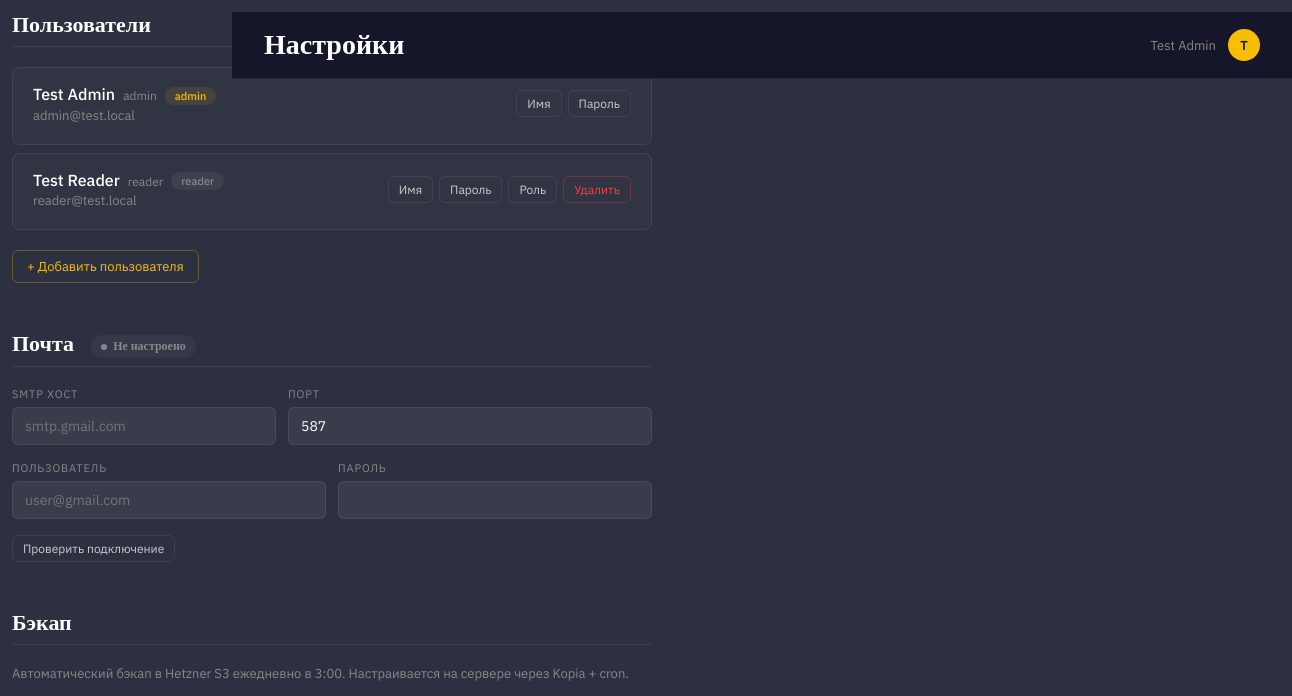
Test: AdminPage › Create user › adds new user to list on successful creation
This screenshot has width=1292, height=696.
expect the text "Test Reader" is shown: met, box [33,170,120,190]
Open new user form
Click the button "+ Добавить пользователя": (105, 266) [12,250,199,283]
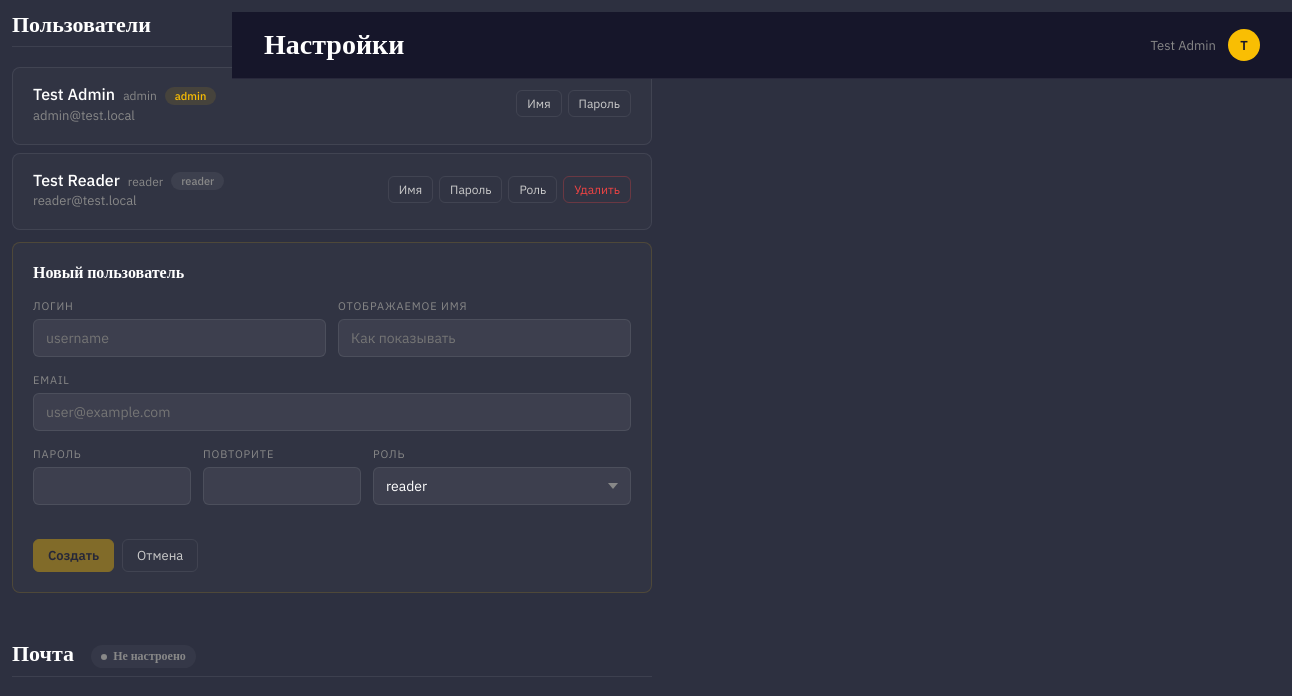
Fill in the form by placeholder
In the field with placeholder "username": (180, 338) [33,319,326,357], type "newuser"
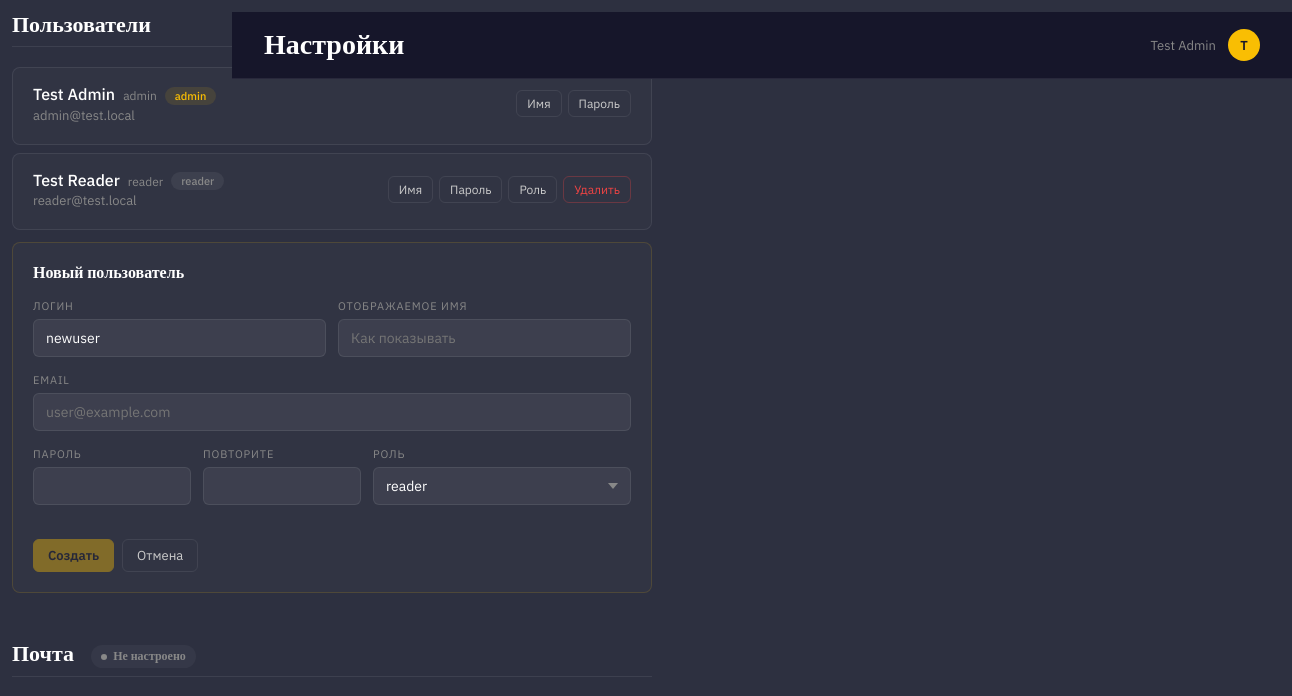
In the field with placeholder "Как показывать": (484, 338) [338,319,631,357], type "New User"
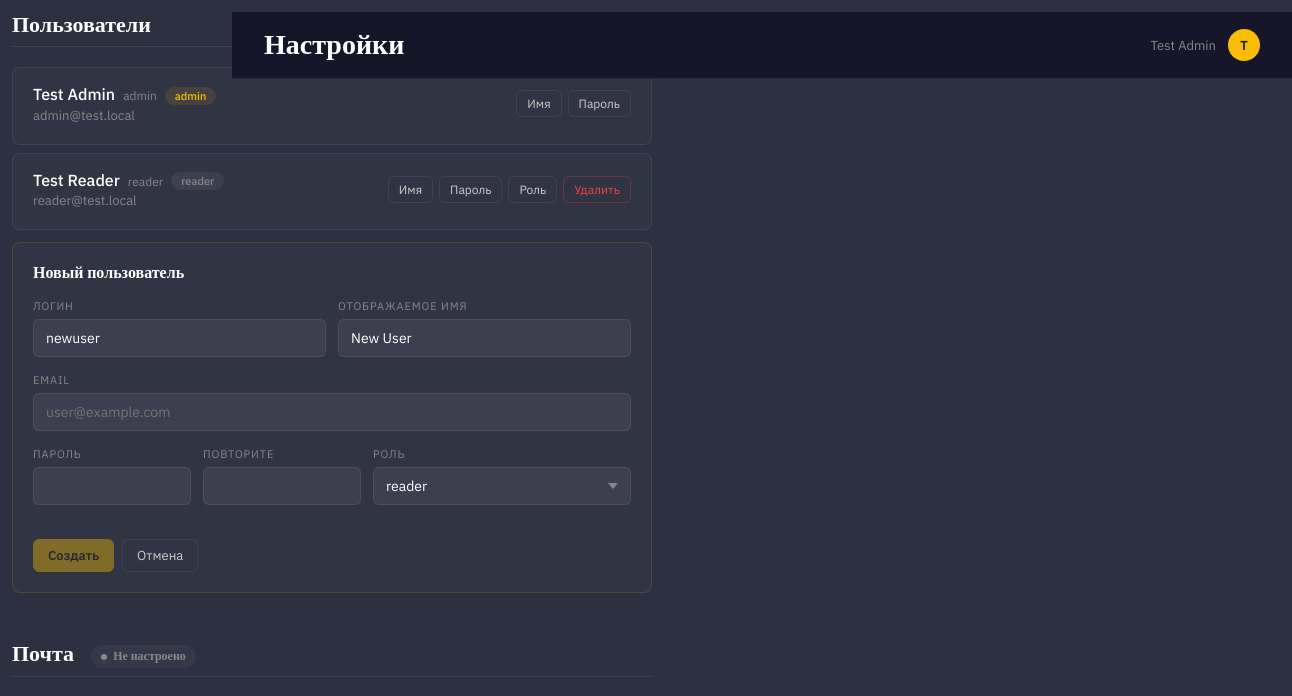
In the password field labelled "Пароль": (112, 486) [33,467,191,505], type "password123"
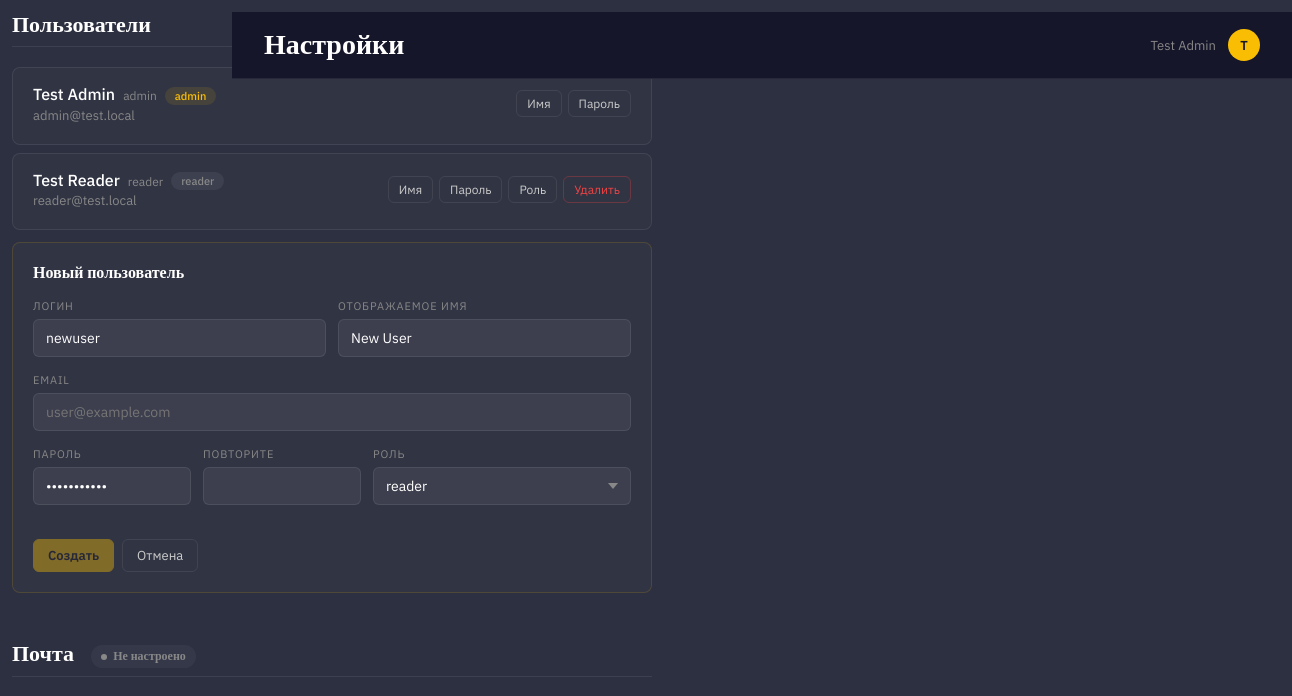
In the password field labelled "Повторите": (282, 486) [203,467,361,505], type "password123"
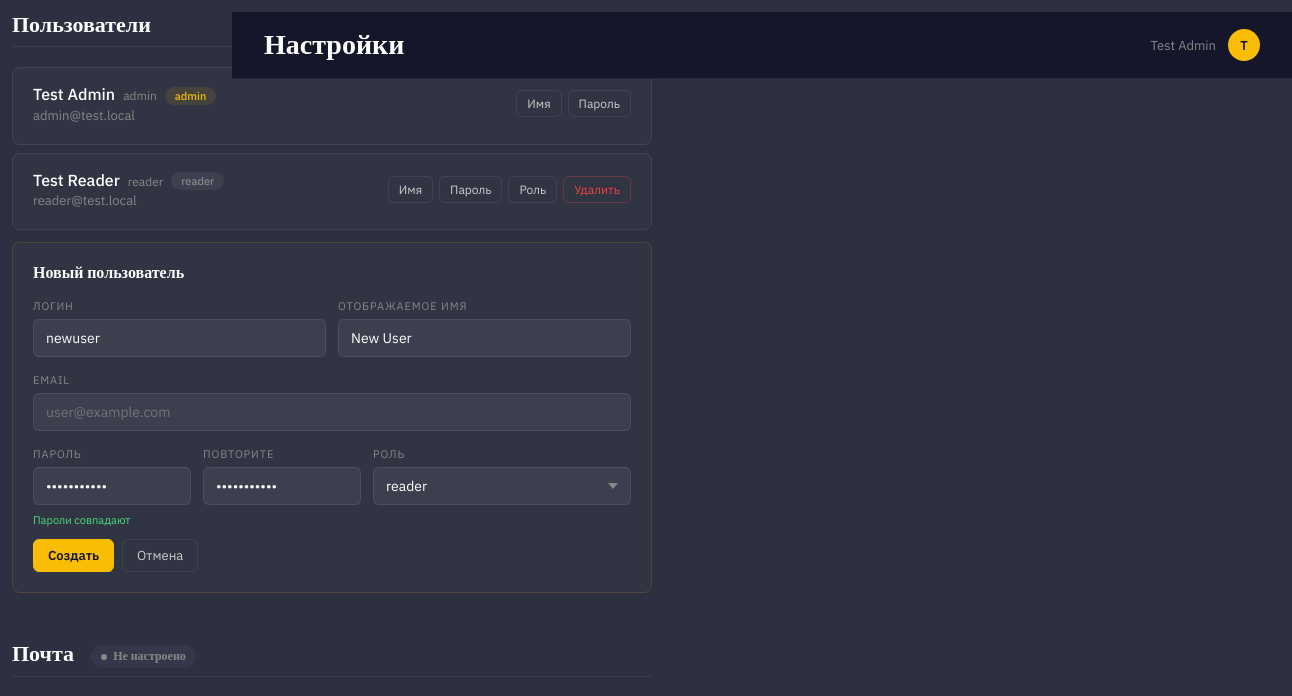
Click create button
Click the button "Создать": (74, 556) [33,539,114,572]
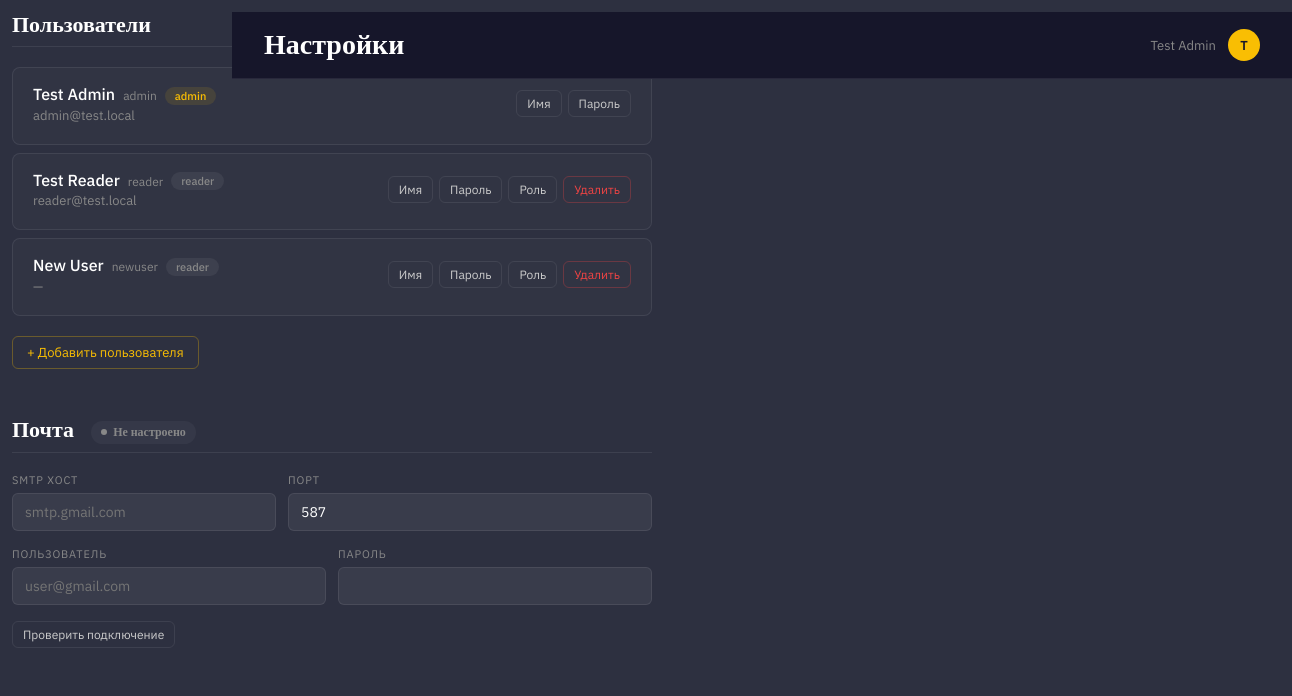
expect the text "New User" is shown: met, box [33,255,104,275]
